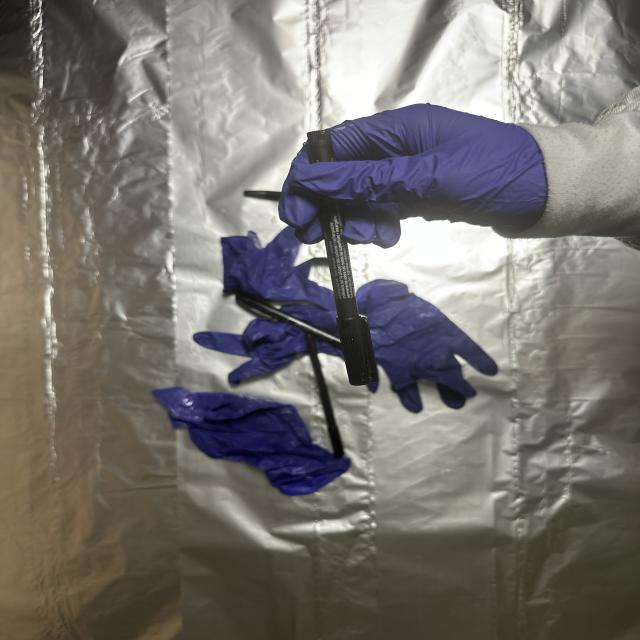gloves_contaminated: (279, 104, 547, 247)
